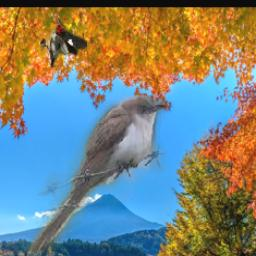Cuckoo: (28, 96, 167, 255)
Woodpecker: (41, 20, 88, 68)
